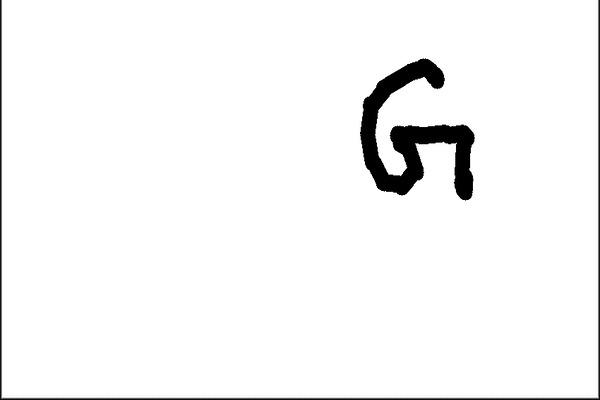G: (353, 56, 479, 204)
